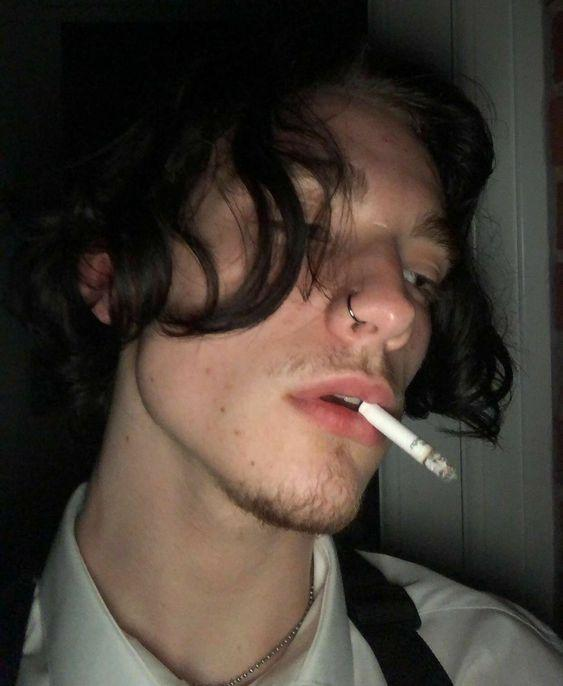cigarette: (358, 400, 456, 481)
